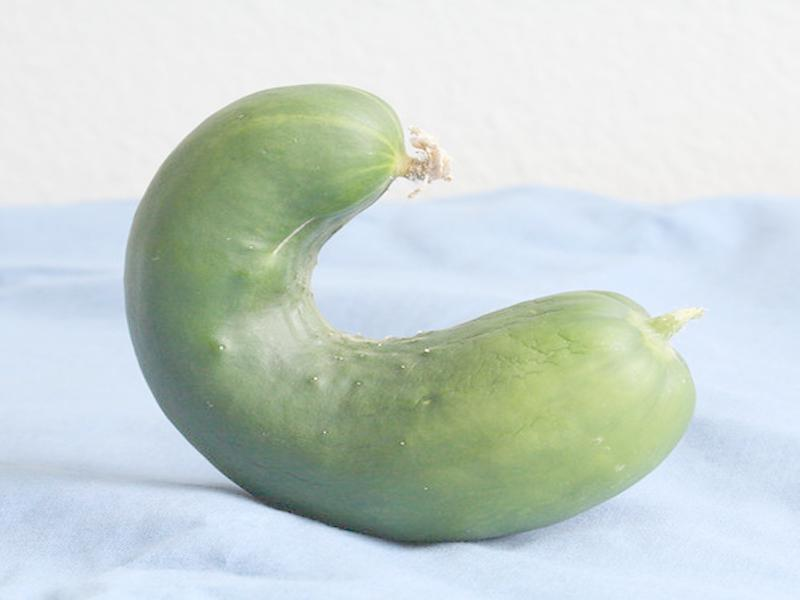Cucumber: (122, 82, 696, 543)
